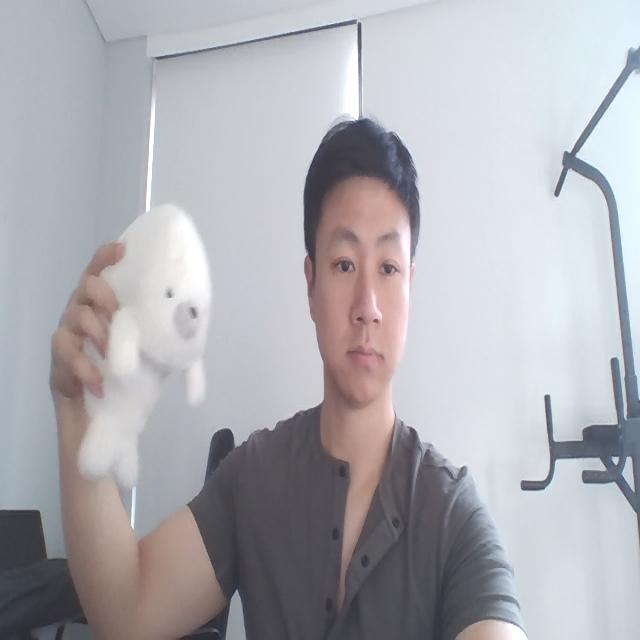seal_bb: (76, 199, 214, 490)
